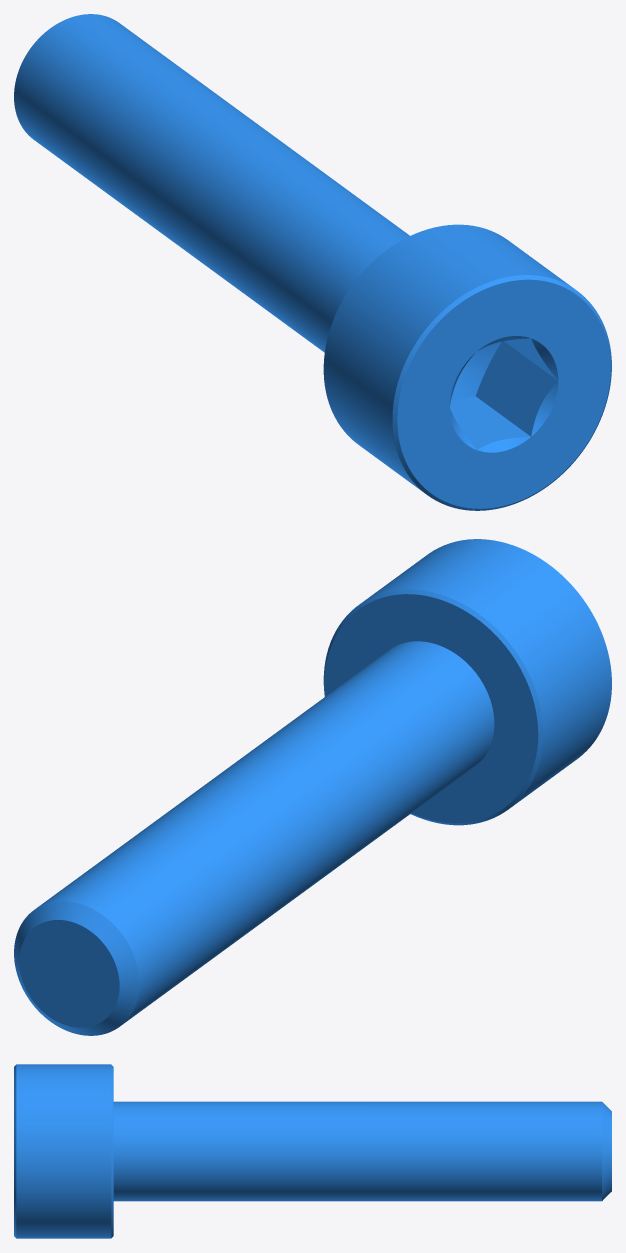
The model's file is assembly.glb.
The picture shows the model from 3 angles, top to bottom: view 1: azimuth 30°, elevation 25°; view 2: azimuth 150°, elevation 25°; view 3: azimuth 270°, elevation 25°; orthographic projection. The views are drawn at different scales.
Parts seen in each view (by area): view 1: ISO4762-M4-20/body; view 2: ISO4762-M4-20/body; view 3: ISO4762-M4-20/body.
Boxes of the visible parts, bbox=[...] form: ISO4762-M4-20/body: bbox=[14, 14, 611, 510]; ISO4762-M4-20/body: bbox=[14, 539, 611, 1035]; ISO4762-M4-20/body: bbox=[14, 1064, 611, 1238].
Bounding box in the file's own units: 0.007 × 0.007 × 0.024.
